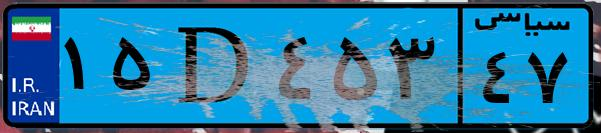1: (57, 26, 110, 100)
3: (385, 28, 445, 110)
4: (270, 28, 330, 110), (475, 38, 525, 113)
5: (330, 28, 385, 110), (110, 28, 158, 98)
7: (525, 38, 570, 115)
D: (158, 12, 270, 120)
